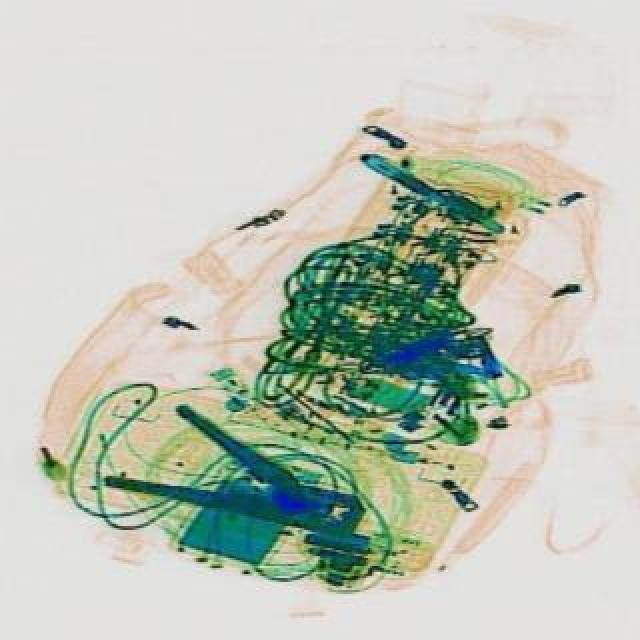wrench: (106, 388, 386, 568)
